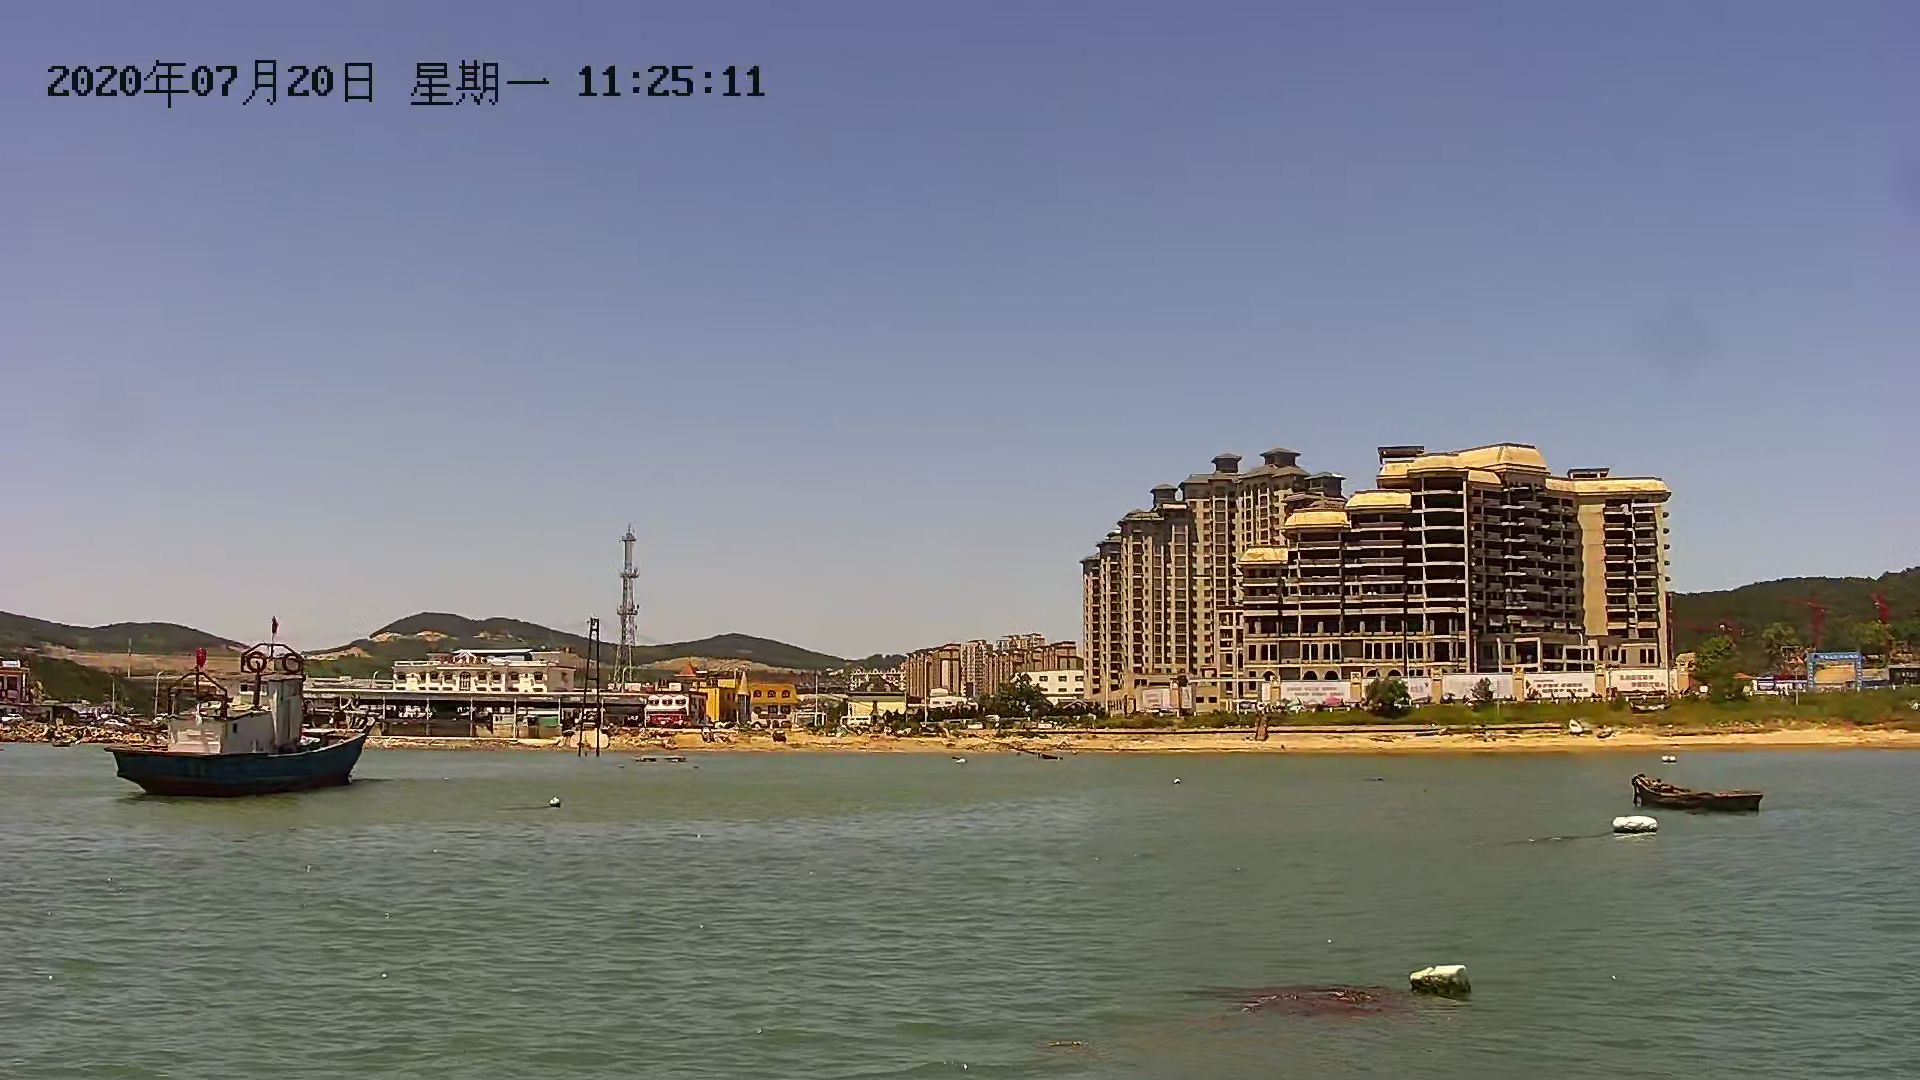ball: (1406, 957, 1477, 993), (1617, 816, 1659, 841)
boat: (104, 638, 378, 804), (1633, 771, 1775, 819)
